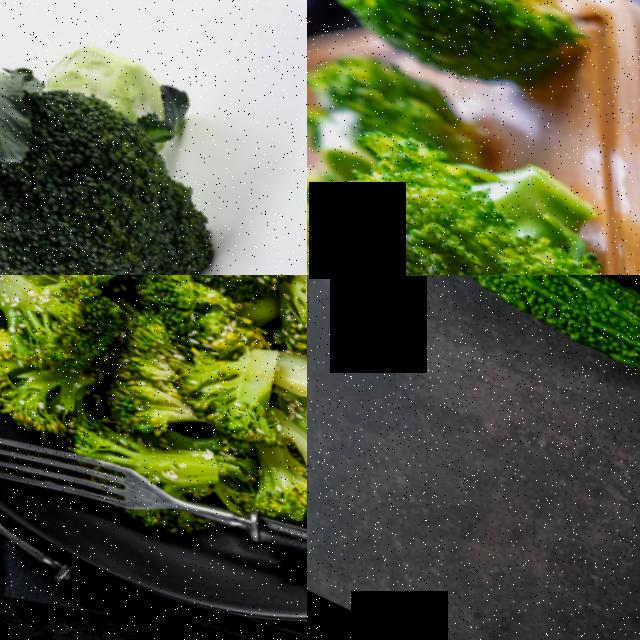bitter gourd: (526, 275, 640, 452)
broccoli: (0, 0, 295, 275), (338, 81, 639, 275), (309, 0, 635, 122), (131, 303, 281, 434), (0, 275, 118, 381), (234, 406, 307, 548), (257, 311, 307, 467), (226, 275, 307, 370)
